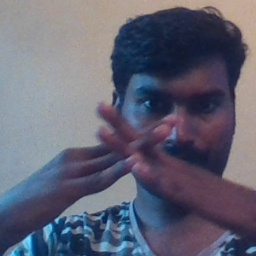W: (59, 88, 199, 218)
